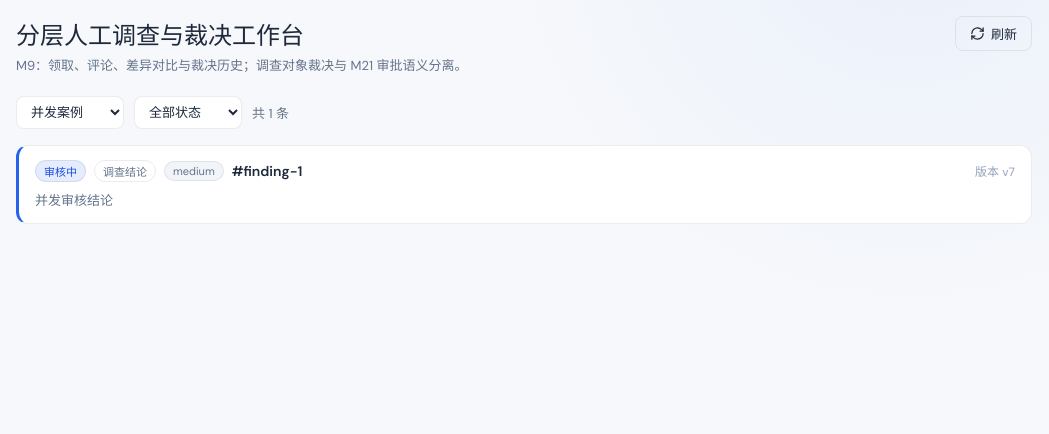
Test: ReviewWorkbenchView concurrency › F3: review_version_conflict 显示冲突文案并 reload queue，不自动重试
Click the button with class "card-main". click: (60, 171)
box: [19,146,1031,223]
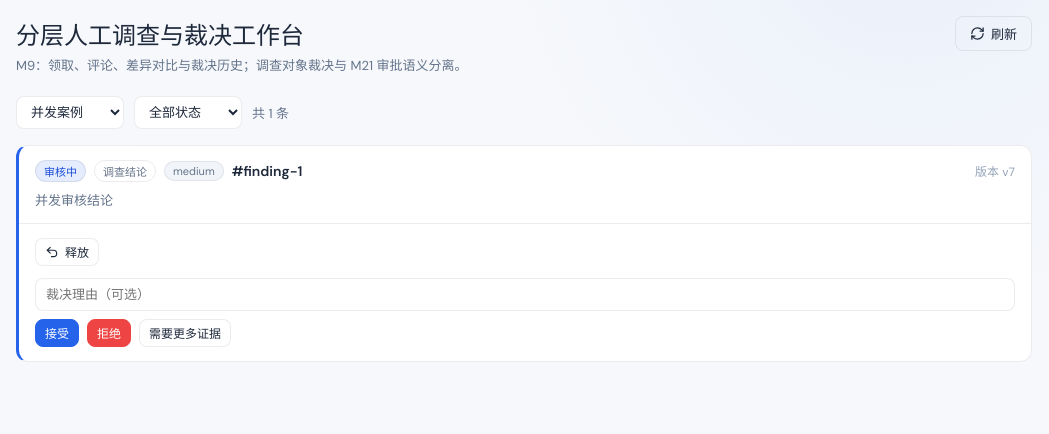
Expected: the button "接受" is shown
Click the button "接受". click: (57, 333)
box: [35,319,79,347]
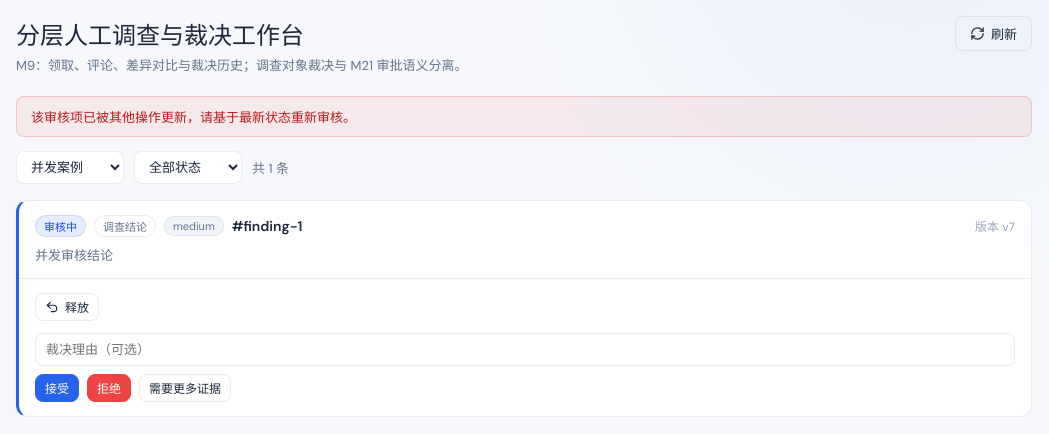
Expected: the text "该审核项已被其他操作更新，请基于最新状态重新审核。" is shown, [16,96,1032,137]
